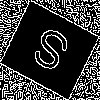S: (24, 25, 73, 82)
